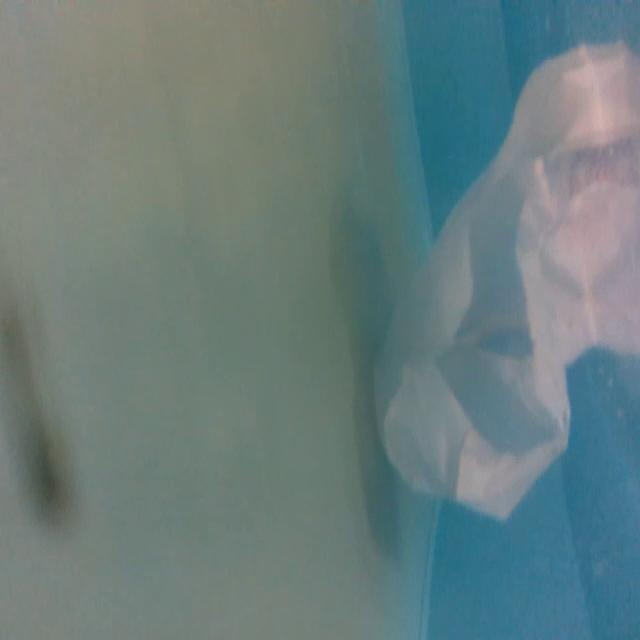plastic bags: (369, 32, 640, 532)
